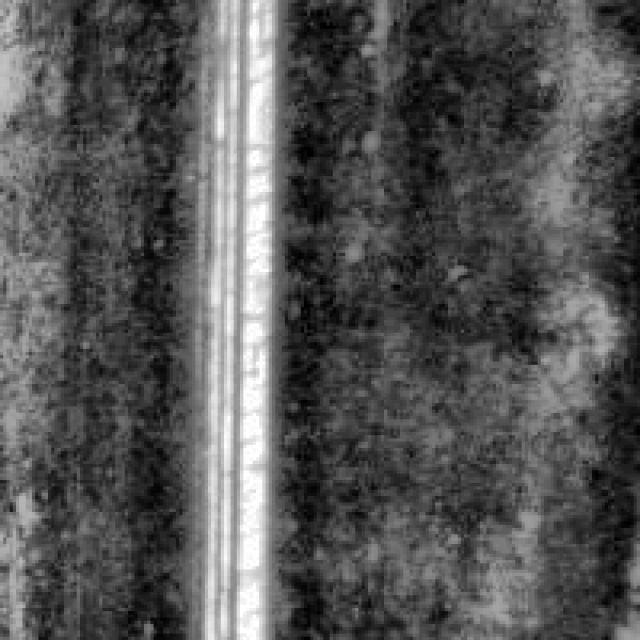Inclusion: (175, 0, 278, 634)
